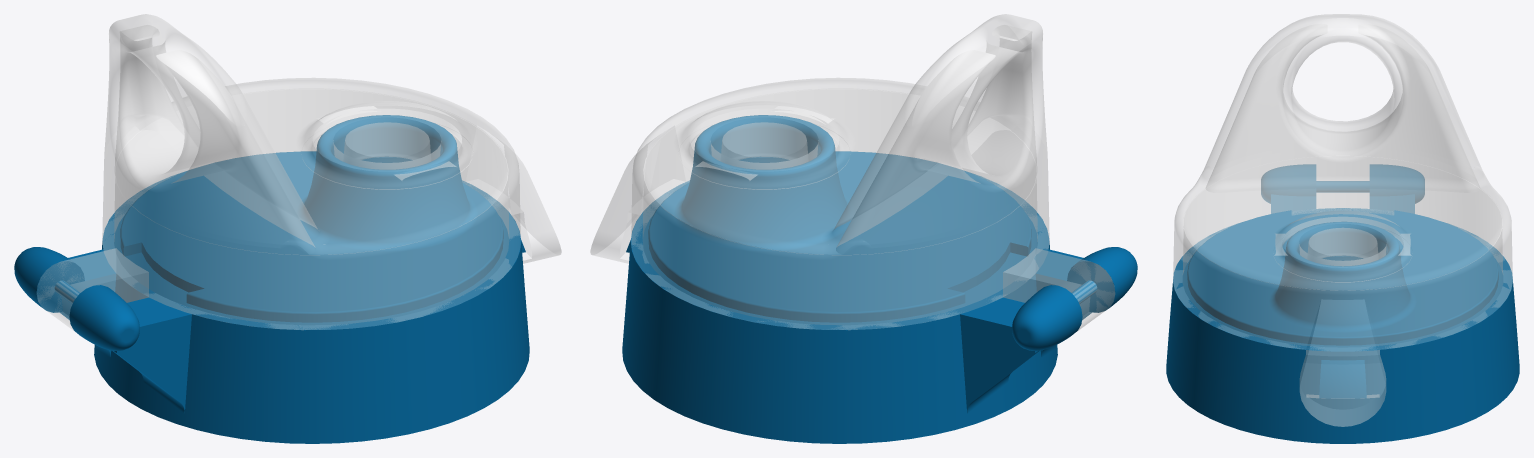
The model's file is FlipBottleLid.glb.
The picture shows the model from 3 angles, left to right: view 1: azimuth 30°, elevation 25°; view 2: azimuth 150°, elevation 25°; view 3: azimuth 270°, elevation 25°; orthographic projection. The views are drawn at different scales.
Visible parts, largest first — view 1: Solid1 (×2); view 2: Solid1 (×2); view 3: Solid1 (×2).
Part boxes in pixels (<box>): Solid1 (×2): <box>14,14,561,443</box>; Solid1 (×2): <box>590,14,1137,443</box>; Solid1 (×2): <box>1166,14,1519,443</box>.
Size of the model in its own units: 0.0906 by 0.0618 by 0.0689.
